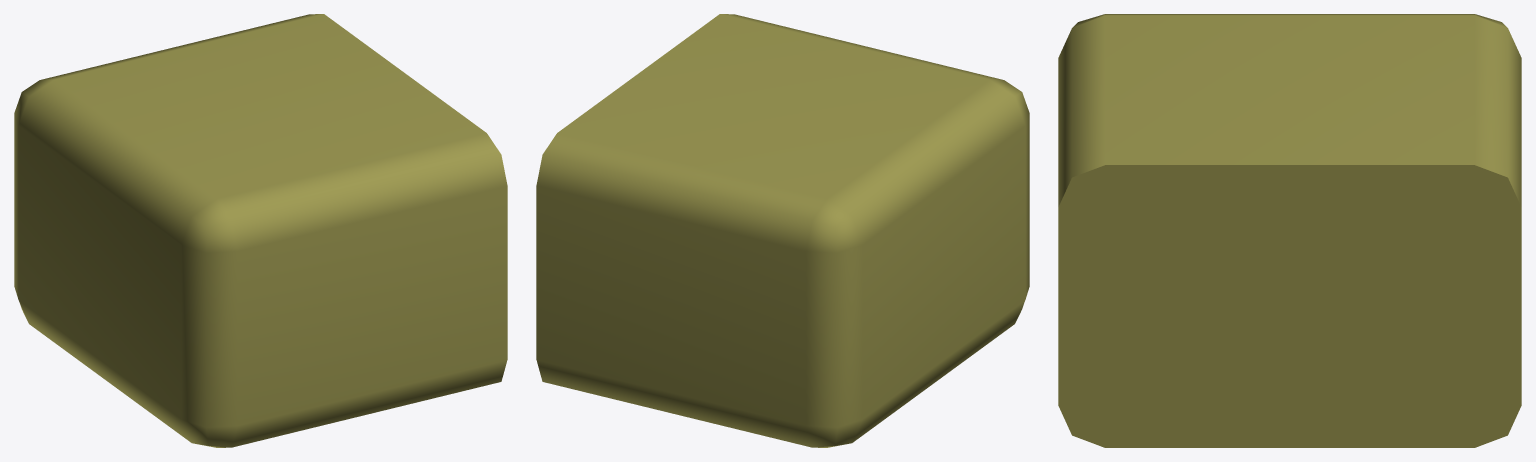
Rendered from SM_CheeseHalf.fbx.
The picture shows the model from 3 angles, left to right: view 1: azimuth 30°, elevation 25°; view 2: azimuth 150°, elevation 25°; view 3: azimuth 270°, elevation 25°; orthographic projection. The views are drawn at different scales.
Visible parts, largest first — view 1: CheeseHalf; view 2: CheeseHalf; view 3: CheeseHalf.
Part boxes in pixels (box(x1,y1,x2,y2)): CheeseHalf: box(14, 14, 507, 447); CheeseHalf: box(536, 14, 1029, 447); CheeseHalf: box(1058, 14, 1521, 447).
Bounding box in the file's own units: 10.14 × 7.9 × 11.72.
